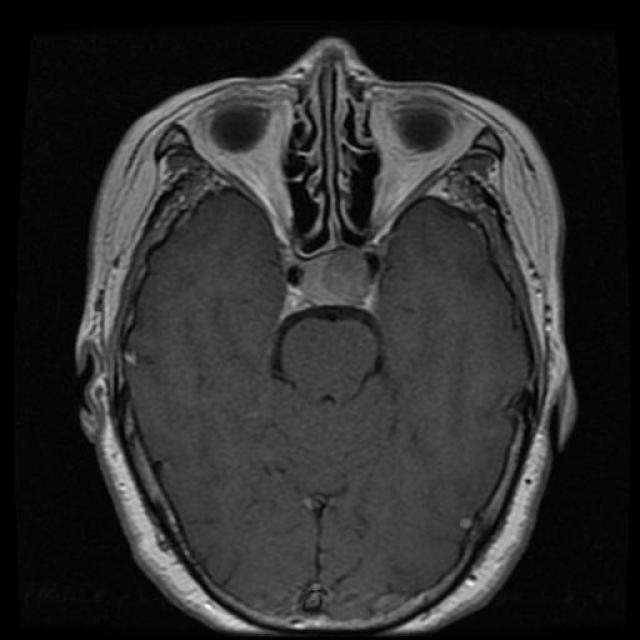pituitary: (285, 238, 395, 316)
